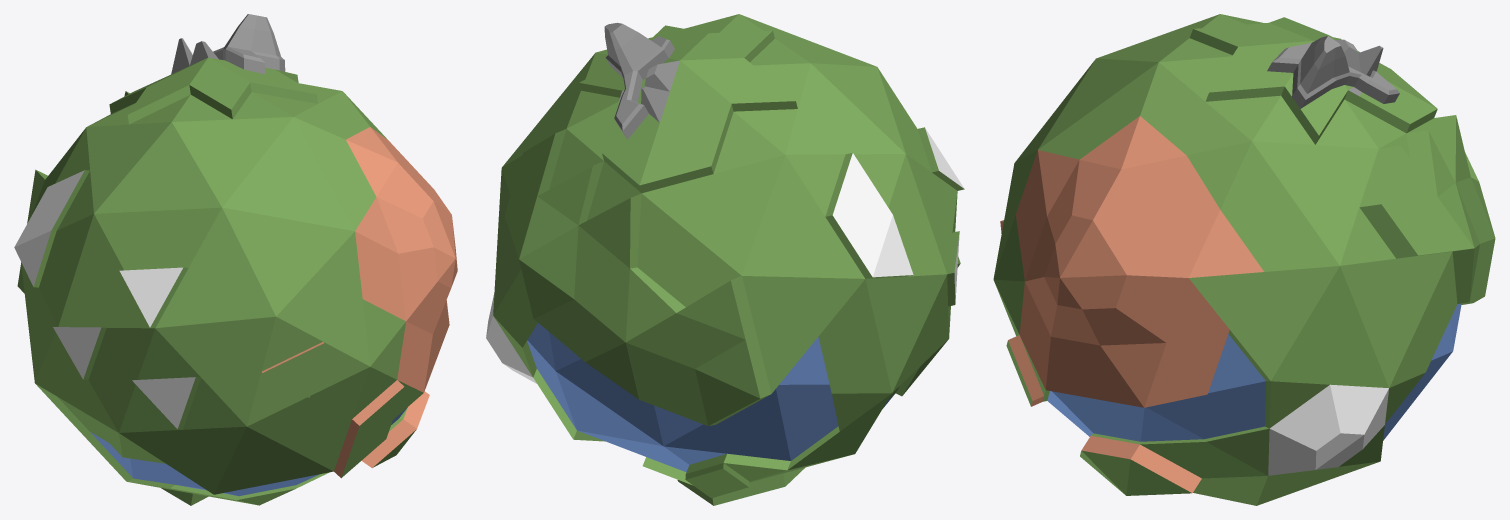
The model's file is MyPlanet.fbx.
3 views of the same model, side by side, from view 1: azimuth 30°, elevation 25°; view 2: azimuth 150°, elevation 25°; view 3: azimuth 270°, elevation 25° (orthographic). The views are drawn at different scales.
Visible parts, largest first — view 1: Icosphere; view 2: Icosphere; view 3: Icosphere.
Part boxes in pixels (x1=…): Icosphere: x1=14, y1=14, x2=457, y2=505; Icosphere: x1=486, y1=14, x2=964, y2=505; Icosphere: x1=993, y1=14, x2=1495, y2=505.
Bounding box in the file's own units: 201 × 214 × 203.
